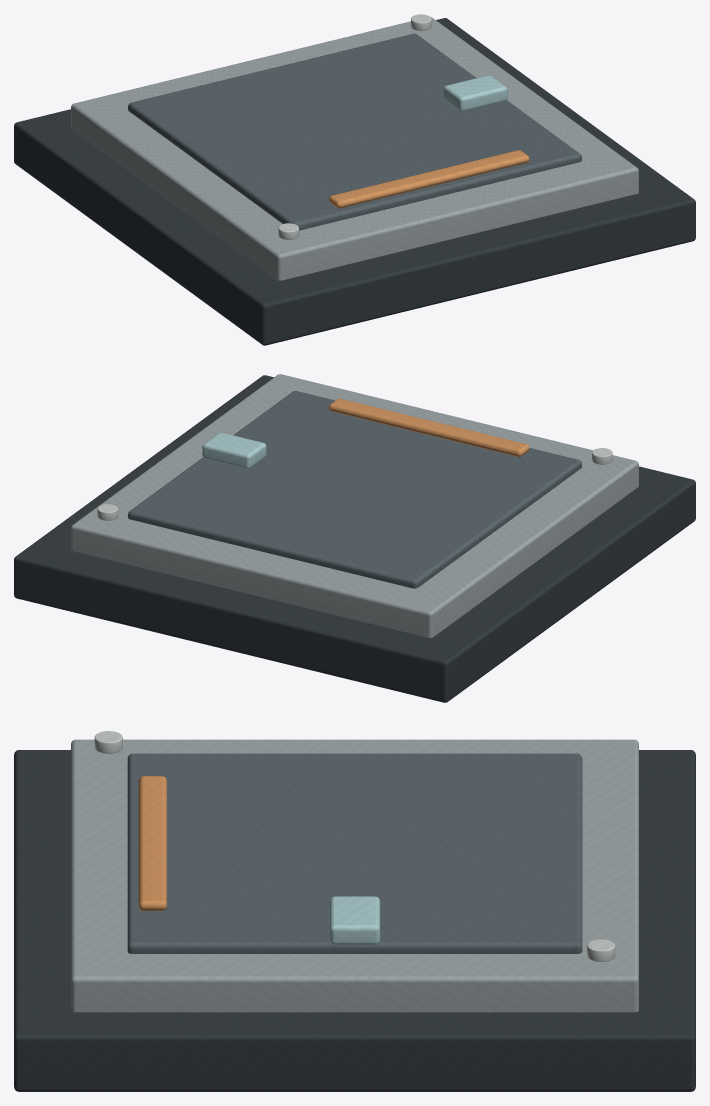
The model's file is FloorServiceHatch.fbx.
3 renders of one model, top to bottom at view 1: azimuth 30°, elevation 25°; view 2: azimuth 150°, elevation 25°; view 3: azimuth 270°, elevation 25°, orthographic. The views are drawn at different scales.
Visible parts, largest first — view 1: FloorServiceHatch_Mesh; view 2: FloorServiceHatch_Mesh; view 3: FloorServiceHatch_Mesh.
Part boxes in pixels (<box>): FloorServiceHatch_Mesh: <box>14,14,695,345</box>; FloorServiceHatch_Mesh: <box>14,374,695,702</box>; FloorServiceHatch_Mesh: <box>14,731,695,1091</box>.
Bounding box in the file's own units: 108 × 20.75 × 108.
Materials: 6 (6 with a texture image).
